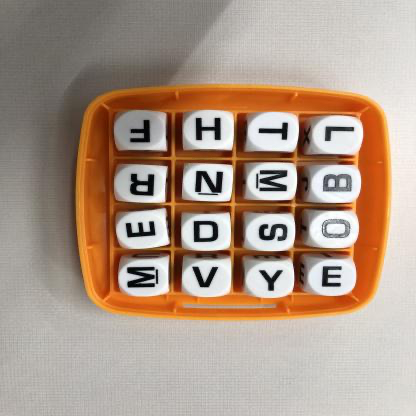b: (308, 166, 360, 201)
d: (183, 214, 235, 251)
e: (307, 258, 358, 296), (117, 213, 169, 247)
f: (115, 113, 168, 152)
h: (184, 112, 234, 149)
l: (310, 117, 364, 156)
m: (245, 164, 297, 200), (120, 260, 170, 296)
n: (184, 163, 236, 202)
o: (309, 211, 358, 248)
r: (115, 165, 168, 202)
s: (245, 214, 294, 251)
t: (248, 114, 297, 151)
v: (183, 260, 232, 296)
y: (245, 261, 296, 297)
